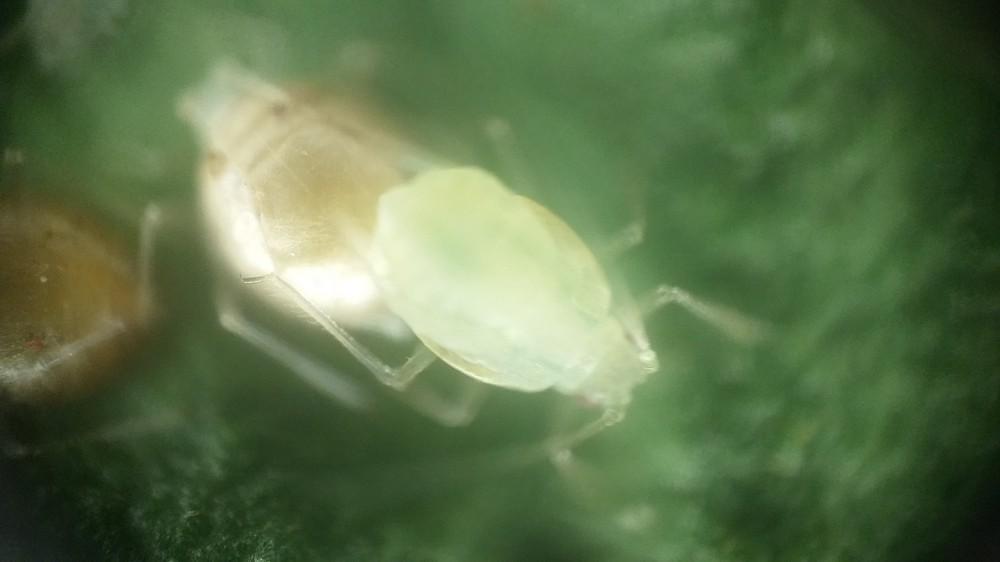Pulgon: (313, 131, 806, 494), (146, 43, 464, 404)
